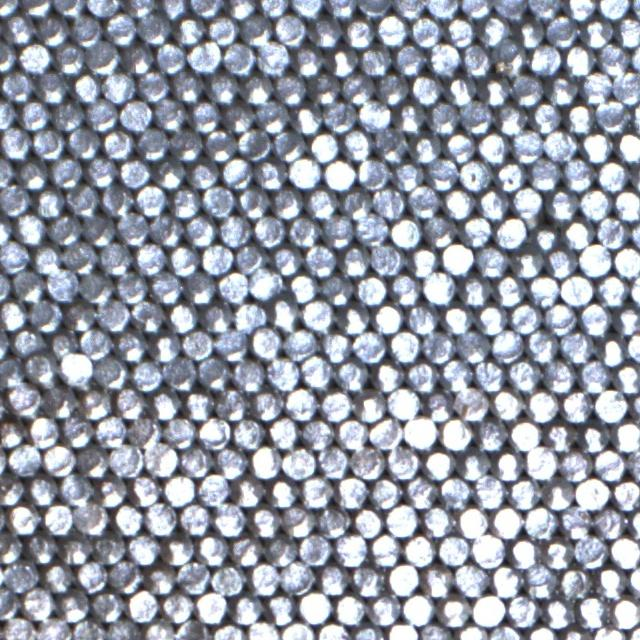tool: (316, 503, 351, 538), (75, 499, 109, 534), (298, 531, 332, 566), (41, 558, 76, 592), (356, 97, 391, 131), (3, 558, 38, 592), (144, 501, 178, 535), (454, 562, 488, 596), (280, 560, 314, 594), (580, 128, 614, 162), (574, 533, 608, 567), (178, 501, 212, 535), (578, 302, 612, 336), (543, 301, 577, 335), (368, 532, 402, 566), (22, 586, 56, 620), (405, 243, 439, 277), (66, 125, 100, 159), (114, 328, 148, 362), (471, 532, 505, 566), (100, 182, 134, 216), (197, 356, 231, 390), (578, 242, 612, 276), (316, 444, 350, 478), (322, 99, 356, 133), (280, 503, 314, 537), (197, 472, 231, 506), (506, 593, 540, 627), (420, 563, 454, 597), (281, 445, 315, 479), (97, 297, 131, 331), (594, 99, 628, 133), (543, 128, 577, 162), (339, 127, 373, 161), (91, 588, 125, 622), (542, 358, 576, 392), (333, 532, 367, 566), (592, 564, 626, 598), (298, 589, 332, 623), (231, 357, 265, 391), (104, 11, 138, 45), (374, 128, 408, 162), (144, 442, 178, 476), (263, 533, 297, 567), (470, 592, 504, 626), (108, 558, 142, 592), (45, 384, 79, 418), (404, 473, 437, 508), (492, 42, 527, 75), (79, 270, 114, 303), (300, 354, 333, 388), (403, 532, 436, 566), (213, 502, 246, 536), (76, 558, 109, 592), (528, 156, 561, 190), (371, 300, 404, 334), (150, 270, 183, 304), (214, 445, 247, 479), (368, 475, 402, 508), (356, 156, 390, 189), (456, 504, 489, 538), (593, 505, 626, 539), (352, 562, 385, 596), (50, 154, 83, 188), (25, 530, 58, 564), (51, 97, 84, 131), (115, 270, 148, 304), (421, 504, 454, 538), (526, 329, 559, 363), (78, 325, 112, 358), (180, 444, 213, 478), (25, 472, 58, 506), (128, 472, 161, 506), (205, 70, 238, 104), (300, 474, 334, 507), (93, 530, 126, 564), (118, 155, 152, 188), (303, 243, 337, 276), (422, 270, 455, 304), (546, 72, 579, 106), (95, 355, 128, 389), (421, 329, 454, 363), (255, 41, 289, 74), (351, 444, 384, 478), (440, 241, 474, 274), (341, 70, 374, 104), (561, 157, 594, 191), (187, 39, 221, 72), (376, 70, 409, 104), (230, 533, 263, 567), (559, 504, 592, 538), (494, 102, 527, 136), (561, 330, 594, 364), (16, 156, 49, 190), (267, 296, 300, 330), (135, 126, 168, 160), (117, 210, 150, 244), (60, 351, 93, 385), (525, 389, 559, 422), (318, 388, 352, 421), (216, 387, 250, 420), (490, 330, 524, 363), (99, 240, 132, 274), (162, 356, 196, 389), (490, 386, 523, 420), (403, 415, 437, 448), (525, 564, 558, 598), (385, 503, 418, 537), (490, 563, 523, 597), (195, 589, 229, 622), (266, 415, 300, 448), (316, 560, 349, 594), (366, 592, 400, 625), (459, 100, 492, 134), (35, 12, 68, 46), (439, 358, 472, 392), (77, 442, 110, 476), (540, 536, 573, 570), (60, 414, 94, 447), (212, 561, 245, 595), (7, 501, 40, 535), (110, 442, 143, 476), (511, 72, 544, 106), (42, 442, 76, 475), (132, 300, 165, 334), (8, 382, 41, 416), (273, 12, 306, 46), (69, 12, 102, 46), (474, 417, 507, 451), (387, 445, 420, 479), (42, 501, 75, 534), (0, 68, 33, 101), (102, 69, 135, 102), (455, 386, 488, 419), (239, 71, 272, 104), (215, 327, 248, 360), (406, 185, 439, 218), (319, 329, 352, 362), (593, 447, 626, 480), (18, 41, 51, 74), (137, 68, 170, 101), (266, 357, 299, 390), (28, 297, 61, 330), (529, 42, 562, 75), (250, 387, 283, 420), (490, 505, 523, 538), (127, 531, 160, 564), (162, 472, 195, 505), (443, 130, 476, 163), (576, 476, 609, 509), (127, 413, 160, 446), (196, 532, 229, 565), (508, 536, 541, 569), (474, 358, 507, 391), (581, 15, 614, 48), (371, 242, 404, 275), (270, 243, 303, 276), (52, 41, 85, 74), (320, 272, 353, 305), (524, 506, 557, 539), (273, 71, 306, 104), (222, 41, 255, 74), (66, 182, 99, 215), (25, 352, 58, 385), (427, 41, 460, 74), (594, 388, 627, 421), (580, 70, 613, 103), (63, 299, 96, 332), (48, 212, 81, 245), (253, 213, 286, 246), (181, 327, 214, 360), (372, 185, 405, 218), (355, 212, 388, 245), (233, 299, 266, 332), (578, 187, 611, 220), (422, 447, 455, 480), (326, 44, 359, 77), (85, 41, 118, 74), (545, 187, 578, 220), (359, 43, 392, 76), (510, 129, 543, 162), (64, 240, 97, 273), (46, 267, 79, 300), (338, 186, 371, 219), (161, 533, 194, 566), (283, 327, 316, 360), (2, 11, 35, 44), (457, 449, 490, 482), (334, 475, 367, 508), (162, 414, 195, 447), (218, 213, 251, 246), (57, 589, 90, 622), (369, 416, 402, 449), (576, 595, 609, 628), (422, 388, 455, 421), (337, 302, 370, 335), (160, 588, 193, 621), (206, 13, 239, 46), (510, 245, 543, 278), (59, 532, 92, 565), (436, 594, 469, 627), (307, 71, 340, 104), (423, 214, 456, 247), (563, 42, 596, 75), (608, 534, 640, 568), (352, 504, 384, 538), (0, 125, 32, 159), (354, 328, 386, 362), (558, 448, 592, 480), (284, 386, 316, 420), (474, 474, 506, 508), (560, 272, 592, 306), (546, 14, 580, 46), (249, 444, 281, 478), (457, 274, 491, 306), (595, 158, 629, 190), (232, 474, 264, 508), (270, 186, 304, 218), (437, 532, 469, 566), (34, 70, 68, 102), (144, 562, 178, 594), (507, 418, 541, 450), (78, 387, 112, 419), (477, 14, 511, 46), (335, 358, 369, 390), (202, 184, 235, 216), (508, 476, 540, 509), (126, 588, 158, 621), (188, 102, 221, 134), (426, 157, 459, 189), (596, 273, 628, 306), (102, 126, 134, 159), (248, 561, 280, 594), (406, 301, 438, 334), (168, 242, 200, 275), (302, 298, 334, 331), (154, 97, 186, 130), (477, 130, 510, 162), (354, 272, 386, 305), (530, 101, 562, 134), (393, 42, 426, 74), (250, 326, 282, 359), (578, 360, 611, 392), (343, 15, 375, 48), (166, 300, 198, 333), (508, 358, 540, 391), (458, 157, 491, 189), (323, 158, 356, 190), (178, 560, 211, 592), (475, 302, 507, 335), (509, 301, 541, 334), (393, 102, 426, 134), (493, 273, 525, 306), (221, 155, 254, 187), (11, 324, 44, 356), (456, 330, 489, 362), (155, 40, 187, 73), (476, 244, 508, 277), (305, 186, 338, 218), (386, 562, 418, 595), (440, 302, 473, 334), (406, 358, 438, 391), (307, 130, 339, 163), (94, 414, 127, 446), (122, 41, 154, 74), (525, 446, 558, 478), (428, 101, 460, 134), (249, 266, 281, 299), (14, 211, 46, 244), (541, 596, 574, 628), (266, 476, 299, 508), (290, 43, 323, 75), (170, 128, 202, 161), (559, 566, 592, 598), (442, 186, 475, 218), (477, 187, 510, 219), (597, 42, 630, 74), (528, 273, 560, 306), (542, 420, 574, 453), (479, 74, 511, 107), (510, 185, 542, 218), (96, 474, 128, 507), (410, 14, 442, 47), (82, 213, 115, 245), (542, 478, 574, 511), (85, 98, 117, 131), (130, 357, 162, 390), (595, 215, 628, 247), (440, 417, 472, 450), (150, 213, 183, 245), (402, 592, 434, 625), (386, 386, 419, 418), (388, 329, 420, 362), (288, 155, 320, 188), (578, 420, 610, 453), (255, 100, 288, 132), (134, 182, 166, 215), (594, 334, 627, 366), (240, 13, 272, 46), (197, 416, 230, 448), (376, 12, 408, 45), (337, 244, 370, 276), (32, 126, 64, 159), (459, 214, 492, 246), (560, 389, 592, 422), (239, 130, 272, 162), (301, 417, 333, 450), (203, 129, 236, 161), (409, 132, 442, 164), (308, 15, 341, 47), (236, 185, 268, 218), (183, 271, 216, 303), (183, 214, 216, 246), (333, 592, 366, 624), (8, 442, 40, 475), (133, 242, 166, 274), (321, 214, 354, 246), (438, 476, 471, 508), (60, 473, 93, 505), (335, 417, 368, 449), (235, 242, 268, 274), (217, 270, 249, 302), (120, 98, 152, 130), (18, 98, 50, 130), (111, 502, 143, 534), (200, 300, 232, 332), (26, 414, 58, 446), (169, 185, 201, 217), (561, 217, 593, 249), (201, 241, 233, 273), (494, 216, 526, 248), (248, 505, 280, 537), (114, 385, 146, 417), (148, 331, 180, 363), (494, 158, 526, 190), (372, 360, 404, 392), (12, 268, 44, 300), (392, 159, 424, 191), (444, 14, 476, 46), (70, 71, 102, 103), (544, 246, 576, 278), (148, 387, 180, 419), (172, 70, 204, 102), (290, 103, 322, 135), (222, 101, 254, 133), (154, 157, 186, 189), (182, 388, 214, 420), (353, 390, 385, 422), (410, 72, 442, 104), (187, 156, 219, 188), (389, 215, 421, 247), (230, 592, 262, 624), (264, 592, 296, 624), (491, 448, 523, 480), (287, 214, 319, 246), (232, 416, 264, 448), (528, 220, 560, 252), (84, 154, 116, 186), (30, 241, 62, 273), (388, 272, 420, 304), (138, 12, 170, 44), (32, 186, 64, 218), (563, 102, 595, 134), (514, 15, 546, 47), (286, 270, 318, 302), (0, 182, 31, 215), (271, 130, 304, 161), (173, 14, 206, 45), (609, 596, 640, 628), (444, 74, 476, 105), (461, 44, 492, 76), (46, 330, 78, 361), (254, 158, 286, 188), (611, 478, 640, 511), (611, 419, 640, 452), (612, 244, 640, 277), (612, 188, 640, 220), (612, 70, 640, 102), (0, 240, 28, 272), (613, 361, 640, 394), (0, 298, 27, 330), (613, 304, 640, 336), (614, 14, 640, 46), (614, 130, 640, 162), (0, 472, 24, 506), (2, 616, 36, 640), (37, 616, 71, 640), (71, 616, 105, 640), (0, 530, 23, 564), (0, 416, 25, 447), (0, 356, 24, 388), (106, 617, 139, 640), (143, 617, 176, 640), (176, 618, 210, 640), (280, 620, 314, 640), (0, 586, 20, 620), (246, 620, 279, 640), (315, 621, 349, 640), (418, 621, 452, 640), (493, 0, 527, 19), (384, 621, 418, 640), (212, 620, 244, 640), (564, 0, 596, 20), (597, 0, 630, 19), (454, 622, 488, 640), (528, 0, 562, 18), (224, 0, 256, 19), (351, 622, 384, 640), (124, 0, 157, 18), (524, 623, 558, 640), (592, 623, 626, 640), (488, 623, 522, 640), (460, 0, 492, 18), (158, 0, 190, 18), (426, 0, 459, 17), (0, 97, 17, 130), (190, 0, 222, 17), (290, 0, 324, 16), (394, 0, 426, 17), (87, 0, 121, 16), (358, 0, 390, 17), (325, 0, 357, 17), (52, 0, 85, 16), (0, 39, 16, 72), (257, 0, 289, 16), (558, 625, 591, 640), (19, 0, 52, 15), (0, 154, 14, 188), (0, 214, 13, 245)
